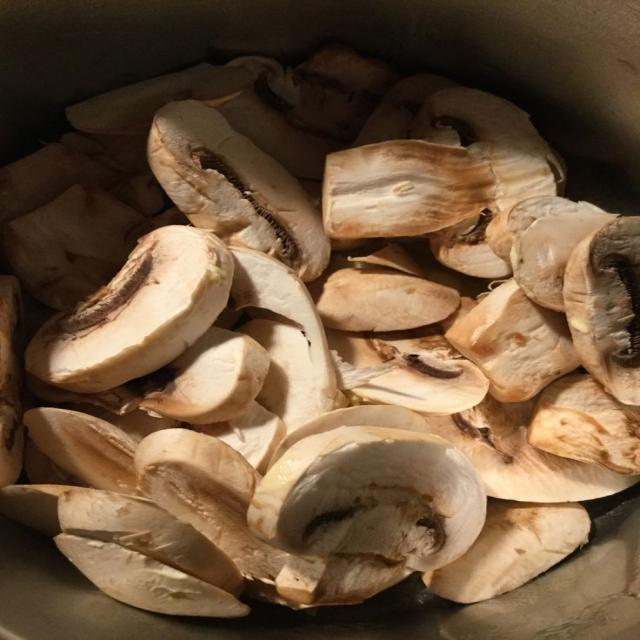champignon mushrooms: (27, 226, 233, 392), (247, 427, 485, 570), (148, 101, 329, 280), (135, 430, 286, 598), (426, 396, 639, 502), (58, 488, 243, 595), (231, 248, 346, 414), (3, 185, 144, 310), (417, 87, 556, 212), (424, 500, 590, 603), (323, 140, 495, 239), (54, 534, 249, 617), (446, 280, 579, 401), (564, 217, 639, 405), (327, 328, 488, 414), (256, 45, 397, 143), (66, 63, 256, 133), (218, 79, 344, 180), (140, 327, 269, 424), (239, 320, 345, 432), (511, 201, 615, 311), (527, 374, 639, 474), (24, 408, 138, 493), (309, 268, 459, 331), (0, 143, 119, 222), (273, 405, 426, 461), (487, 196, 602, 260), (354, 74, 456, 146), (276, 554, 413, 606), (193, 402, 286, 473), (429, 211, 511, 278), (297, 42, 398, 95), (0, 276, 24, 487), (27, 374, 140, 415), (67, 405, 180, 442), (0, 485, 70, 537), (24, 438, 86, 486), (347, 244, 424, 277), (331, 350, 393, 390), (439, 297, 477, 332)
